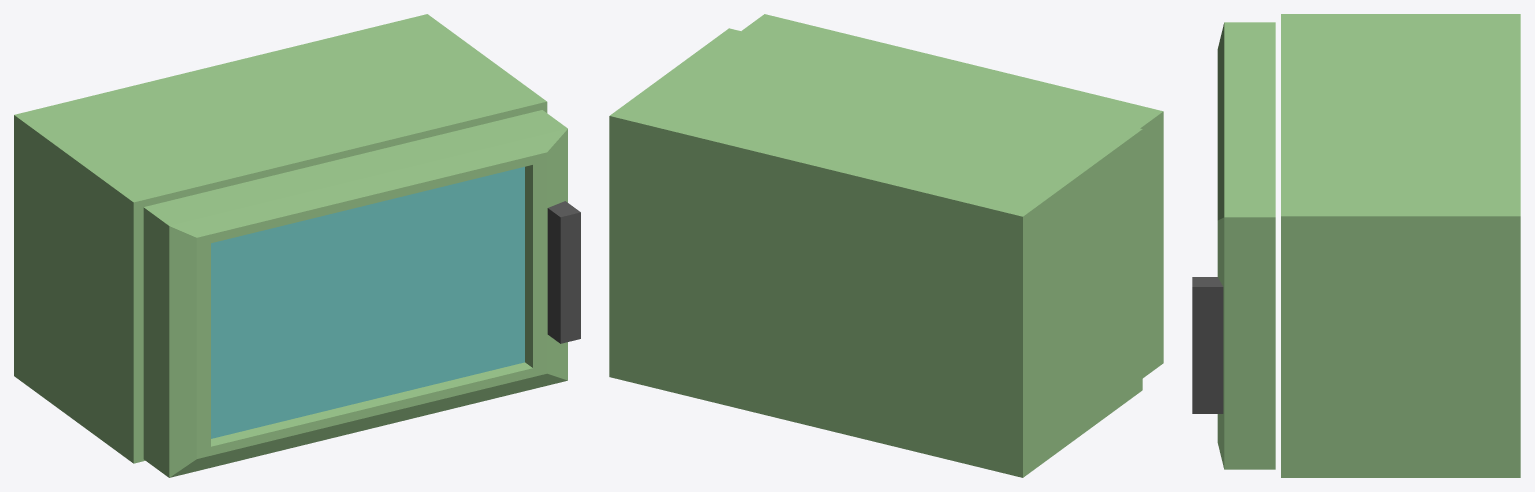
Rendered from Microwave.fbx.
The picture shows the model from 3 angles, left to right: view 1: azimuth 30°, elevation 25°; view 2: azimuth 150°, elevation 25°; view 3: azimuth 270°, elevation 25°; orthographic projection.
Visible parts, largest first — view 1: Microwave; view 2: Microwave; view 3: Microwave.
Part boxes in pixels (bbox=[...]): Microwave: bbox=[14, 14, 580, 477]; Microwave: bbox=[609, 14, 1163, 477]; Microwave: bbox=[1192, 14, 1520, 477].
Bounding box in the file's own units: 177 × 107 × 121.
